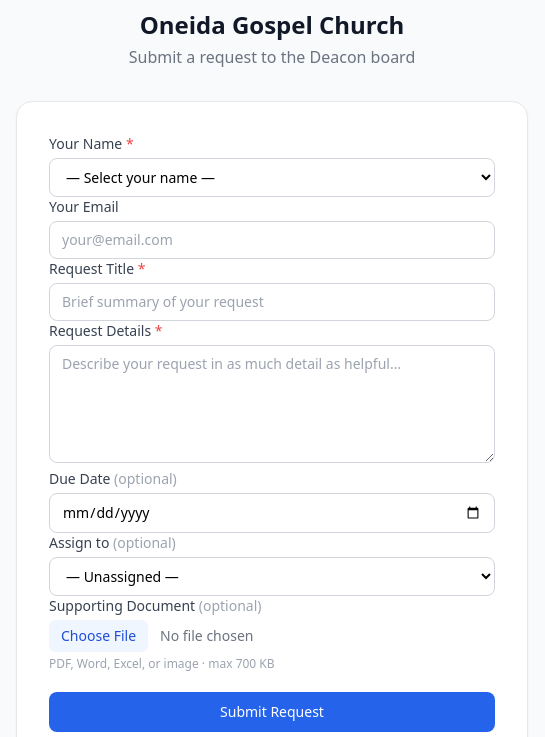
Test case: App — callPhilip error paths (T1) › shows the server error message when the chat responds !ok
The width and height of the screenshot is (545, 737).
Select "Test User One" in the dropdown labelled "Your Name *": (272, 178) [49, 158, 495, 197]
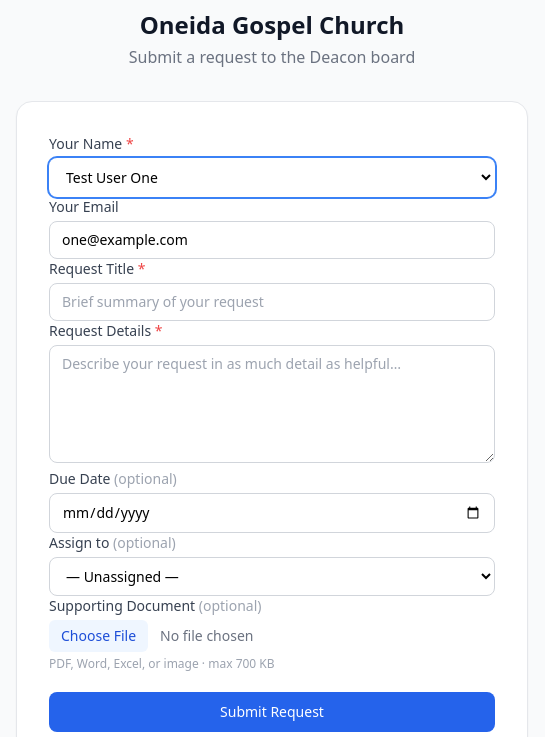
In the field labelled "Request Title *": (272, 302) [49, 283, 495, 321], type "Heater"
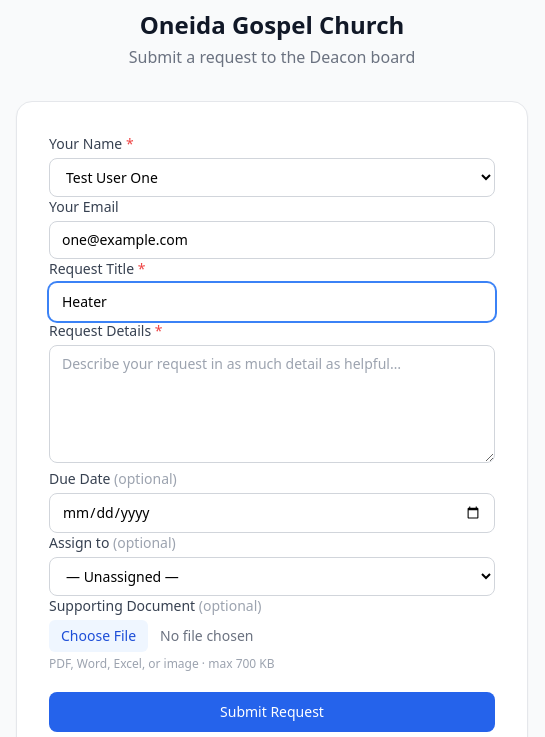
In the text box labelled "Request Details *": (272, 404) [49, 345, 495, 463], type "Broken heater"
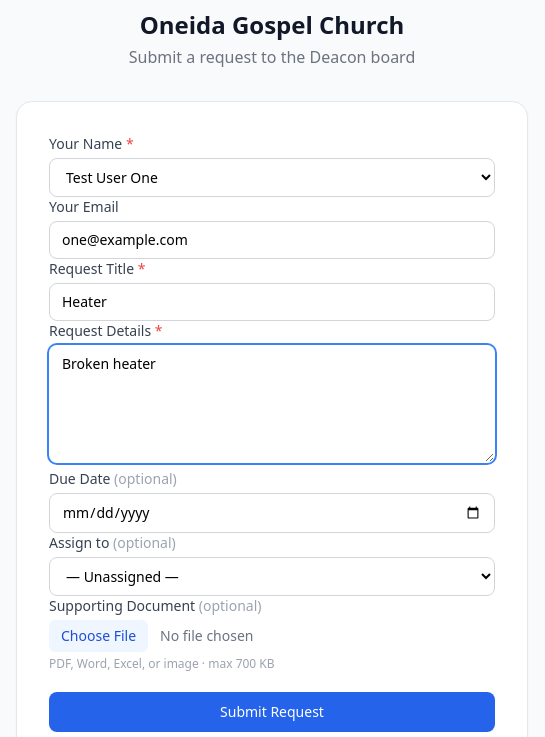
Click the button "Submit Request": (272, 712) [49, 692, 495, 732]
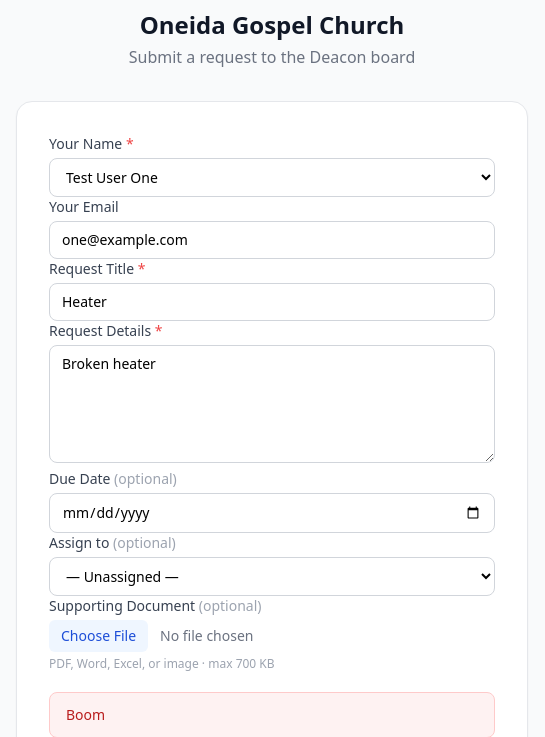
Result: the message reads "Boom" at [66, 705, 105, 724]
